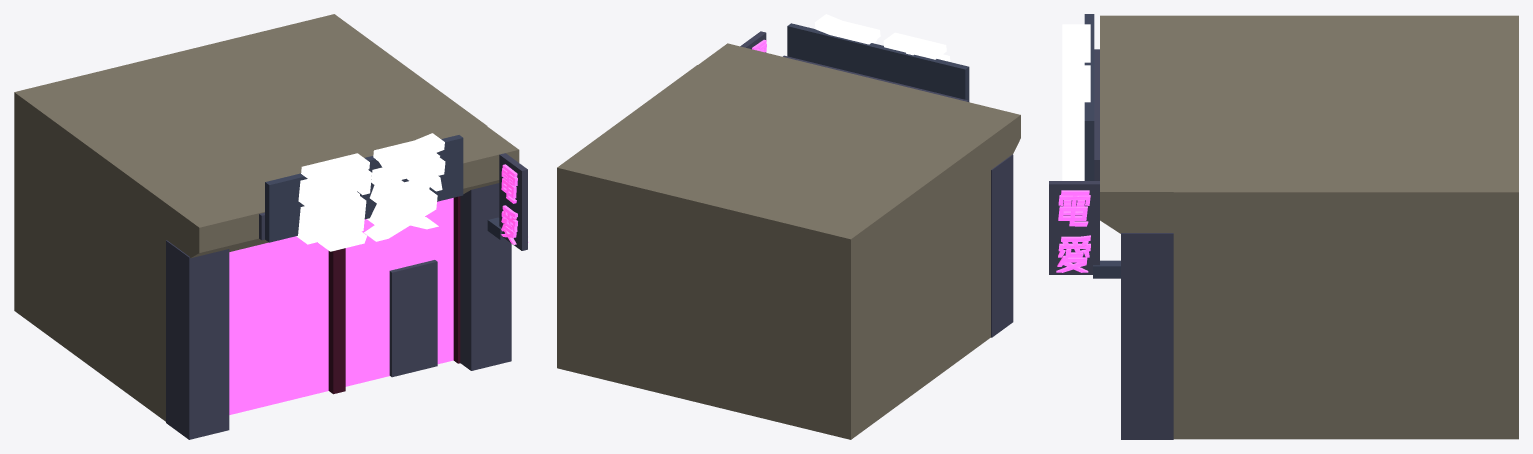
3 renders of one model, left to right at view 1: azimuth 30°, elevation 25°; view 2: azimuth 150°, elevation 25°; view 3: azimuth 270°, elevation 25°, orthographic. The views are drawn at different scales.
Parts seen in each view (by area): view 1: Cube.028, Cube.002, Text.002, Cube.007, Cube, Cube.001, Cube.006, Cube.011, Cube.005, Cube.008, Cube.004, Text.001; view 2: Cube.028, Cube.001, Cube.011, Cube.007, Text.002; view 3: Cube.028, Cube.001, Cube, Text.002, Cube.008, Text, Cube.011, Cube.010, Cube.009.
Part boxes in pixels (bbox=[...]): Cube.028: bbox=[14, 14, 486, 421]; Cube.002: bbox=[229, 198, 453, 414]; Text.002: bbox=[296, 133, 445, 251]; Cube.007: bbox=[166, 240, 229, 439]; Cube: bbox=[460, 183, 511, 370]; Cube.001: bbox=[167, 126, 519, 258]; Cube.006: bbox=[389, 260, 437, 377]; Cube.011: bbox=[265, 135, 463, 242]; Cube.005: bbox=[328, 248, 345, 394]; Cube.008: bbox=[499, 153, 527, 250]; Cube.004: bbox=[453, 196, 460, 363]; Text.001: bbox=[501, 164, 517, 244]; Cube.028: bbox=[557, 65, 990, 439]; Cube.001: bbox=[698, 43, 1020, 169]; Cube.011: bbox=[787, 23, 969, 101]; Cube.007: bbox=[991, 154, 1013, 337]; Text.002: bbox=[814, 14, 950, 61]; Cube.028: bbox=[1173, 15, 1518, 439]; Cube.001: bbox=[1100, 15, 1173, 233]; Cube: bbox=[1121, 233, 1173, 439]; Text.002: bbox=[1062, 24, 1090, 180]; Cube.008: bbox=[1049, 181, 1099, 274]; Text: bbox=[1056, 190, 1090, 272]; Cube.011: bbox=[1084, 14, 1094, 180]; Cube.010: bbox=[1094, 49, 1099, 180]; Cube.009: bbox=[1093, 260, 1120, 278].
Bounding box in the file's own units: 12.49 × 9.66 × 13.95.
